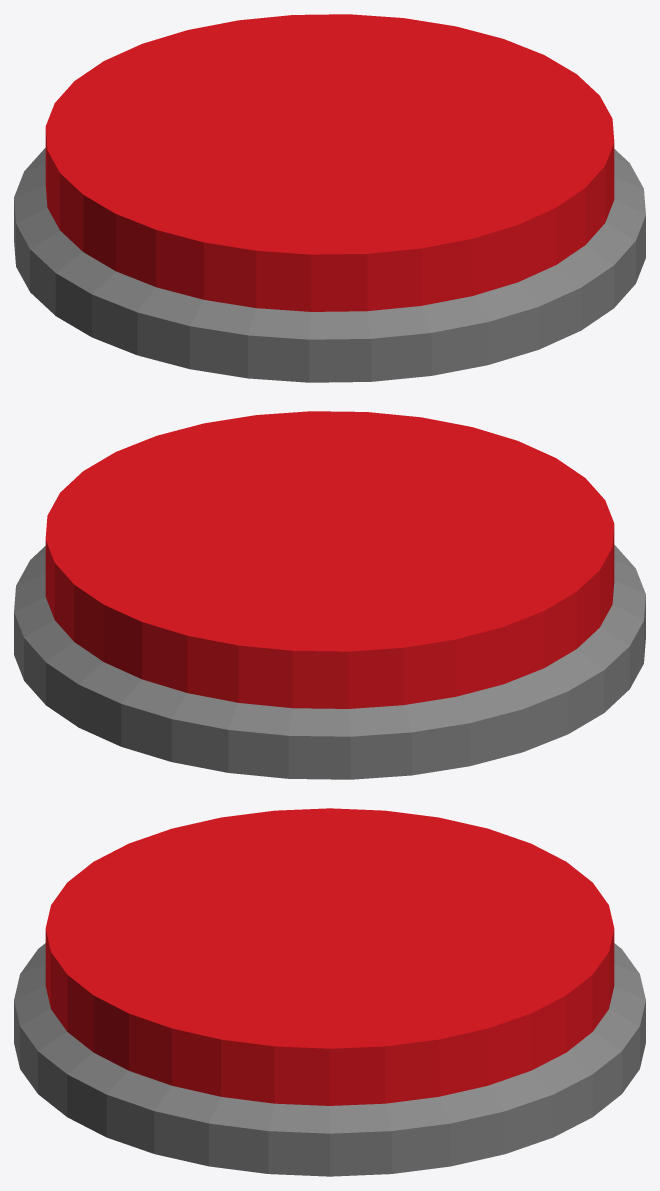
The model's file is button_red.fbx.
3 views of the same model, one above another, from view 1: azimuth 30°, elevation 25°; view 2: azimuth 150°, elevation 25°; view 3: azimuth 270°, elevation 25° (orthographic).
Parts seen in each view (by area): view 1: Button; view 2: Button; view 3: Button.
Boxes of the visible parts, bbox=[...] form: Button: bbox=[14, 14, 645, 382]; Button: bbox=[14, 411, 645, 779]; Button: bbox=[14, 808, 645, 1176].
Size of the model in its own units: 600 by 120 by 600.
